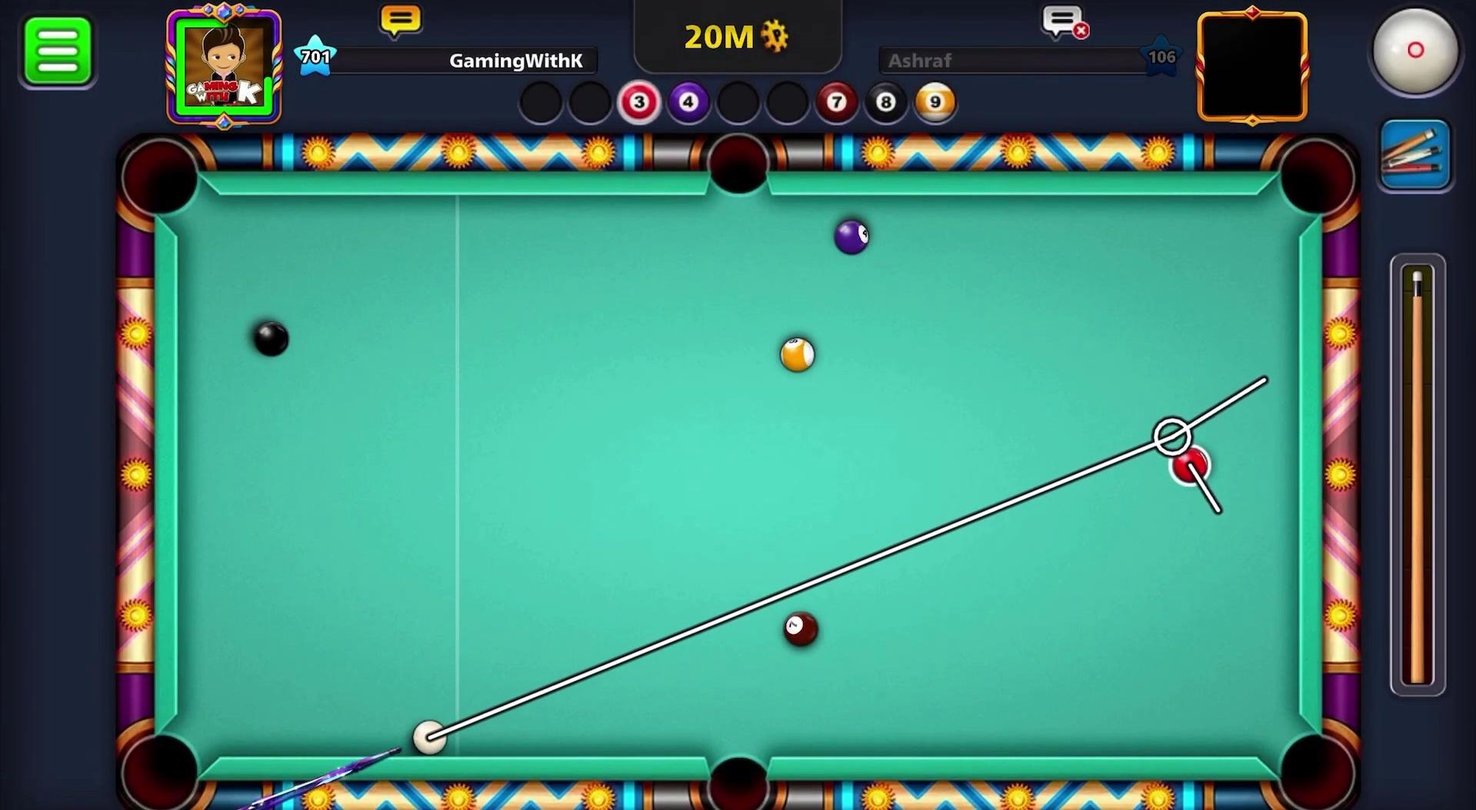Ball: (775, 608, 828, 656), (775, 328, 822, 378), (1164, 441, 1214, 487), (246, 312, 294, 359), (830, 213, 876, 256)
Force: (1385, 254, 1453, 706)
Guideline: (427, 362, 1280, 742)
Hole: (108, 126, 221, 234), (111, 712, 221, 809), (1268, 129, 1366, 230), (1267, 719, 1364, 808), (690, 125, 787, 207)
Play_Area: (173, 195, 1300, 762)
Spin: (1346, 0, 1475, 112)
White: (406, 718, 455, 758)
